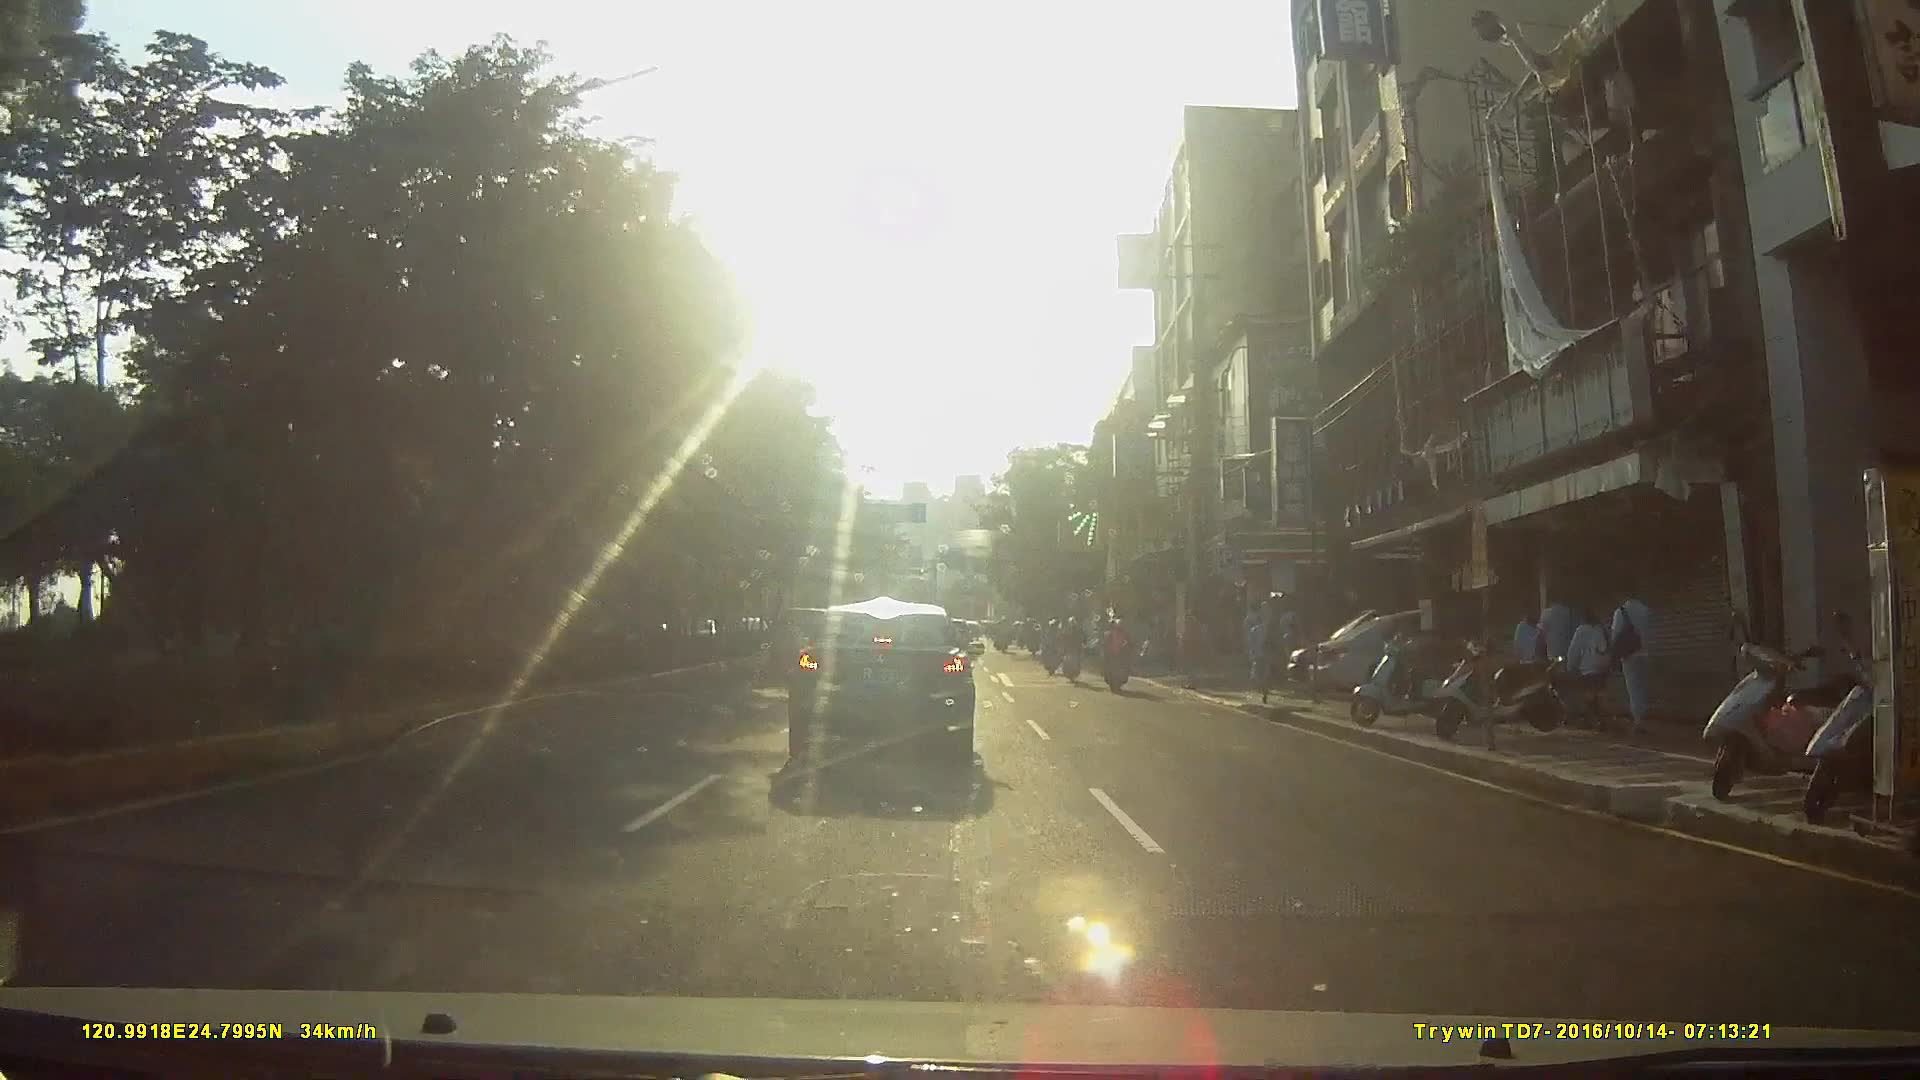pedestrian: (1608, 576, 1658, 730), (1563, 604, 1619, 724), (1534, 582, 1577, 706), (1244, 605, 1276, 702)
rider: (1102, 614, 1138, 694), (1059, 615, 1088, 684), (1040, 619, 1065, 679)
vehicle: (780, 595, 995, 787), (1312, 596, 1581, 704)
